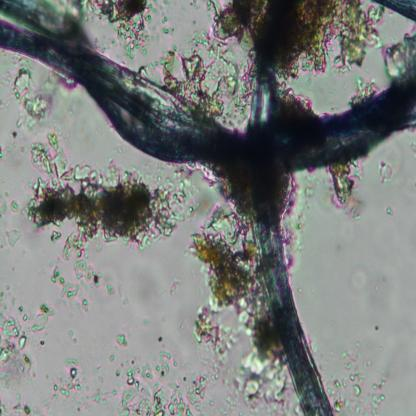Background material: (22, 135, 200, 249), (214, 2, 381, 75), (188, 209, 264, 317), (162, 32, 250, 112), (117, 349, 206, 415), (0, 289, 55, 387), (236, 318, 292, 412), (54, 240, 112, 309), (331, 348, 387, 414), (93, 2, 157, 55), (9, 67, 52, 130), (192, 307, 238, 363), (55, 358, 94, 411), (328, 164, 362, 220), (383, 34, 416, 83), (0, 396, 30, 416), (1, 196, 22, 216), (378, 159, 394, 184), (3, 229, 23, 248), (171, 276, 181, 300), (117, 333, 130, 346)
Cellulose filter fibre: (0, 18, 416, 166), (239, 61, 333, 415)
Cotton: (371, 1, 416, 24)
